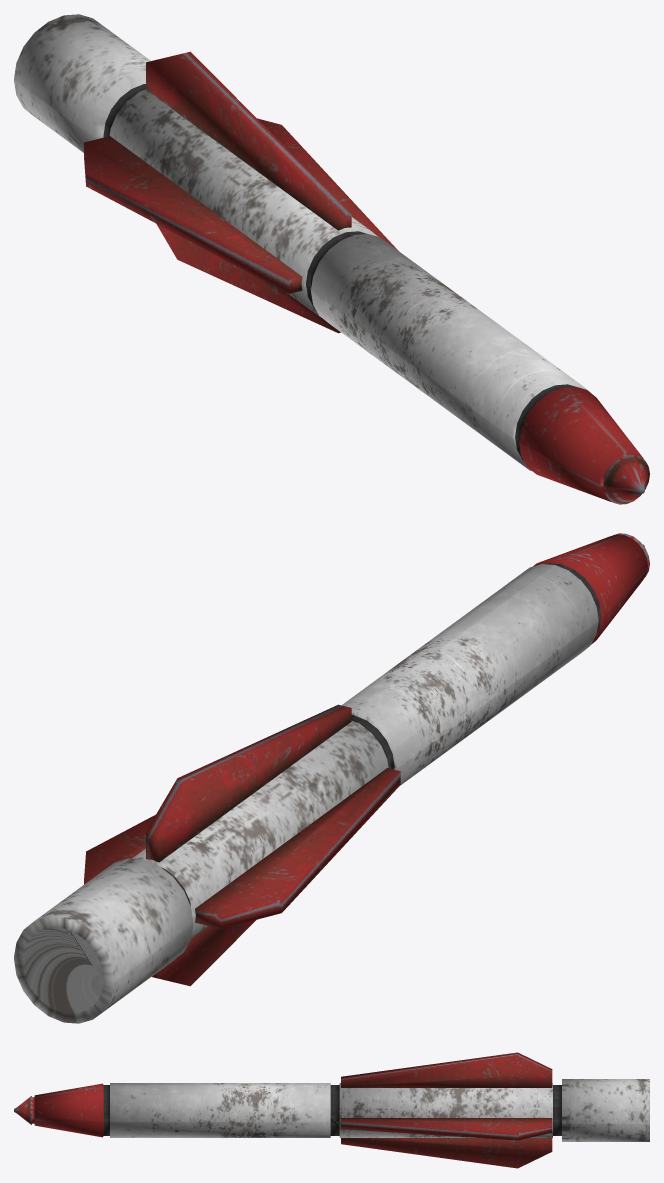
The model's file is SM_Missile_01a.fbx.
The picture shows the model from 3 angles, top to bottom: view 1: azimuth 30°, elevation 25°; view 2: azimuth 150°, elevation 25°; view 3: azimuth 270°, elevation 25°; orthographic projection. The views are drawn at different scales.
Visible parts, largest first — view 1: Cube; view 2: Cube; view 3: Cube.
Boxes of the visible parts, x1,y1,x2,y2 form: Cube: (14,14,649,504); Cube: (14,533,649,1023); Cube: (14,1052,649,1168).
Bounding box in the file's own units: 210 × 210 × 1074.
Materials: 1 (1 with a texture image).
